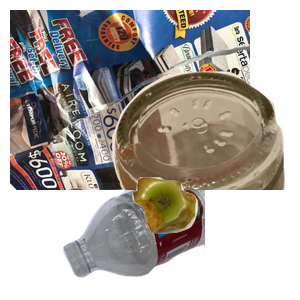glass: (89, 69, 300, 249)
paper: (10, 10, 250, 190)
plastic: (60, 190, 300, 280)
trash: (130, 175, 300, 300)
